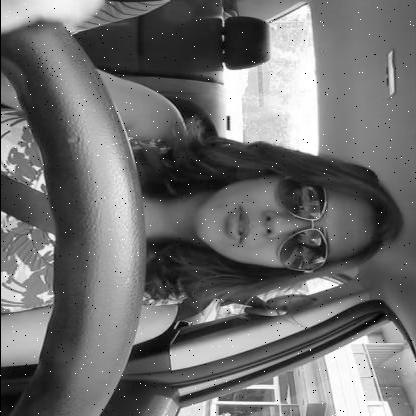seatbelt: (0, 158, 410, 320)
